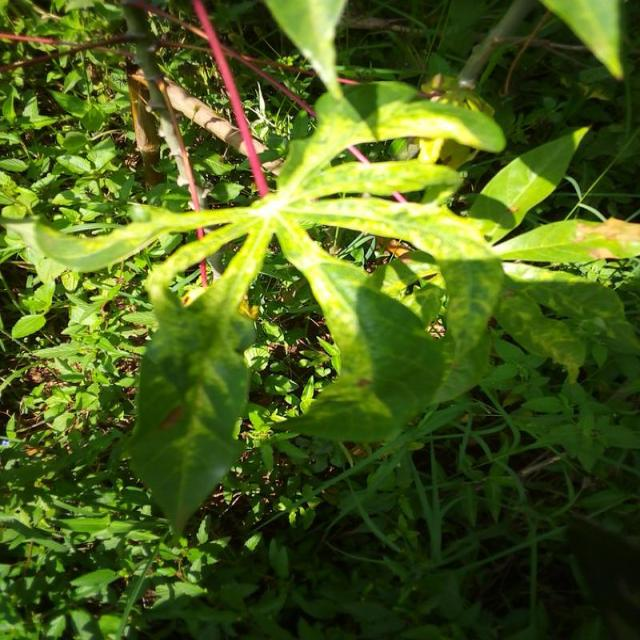cassava leaf: (127, 277, 258, 539)
